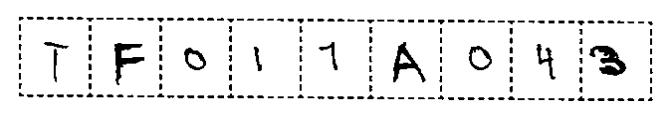0: (458, 40, 496, 76), (176, 39, 212, 76)
1: (243, 40, 273, 78)
3: (587, 42, 630, 82)
4: (530, 40, 564, 86)
7: (312, 37, 343, 73)
A: (384, 38, 431, 91)
F: (108, 38, 148, 91)
T: (38, 37, 72, 84)
